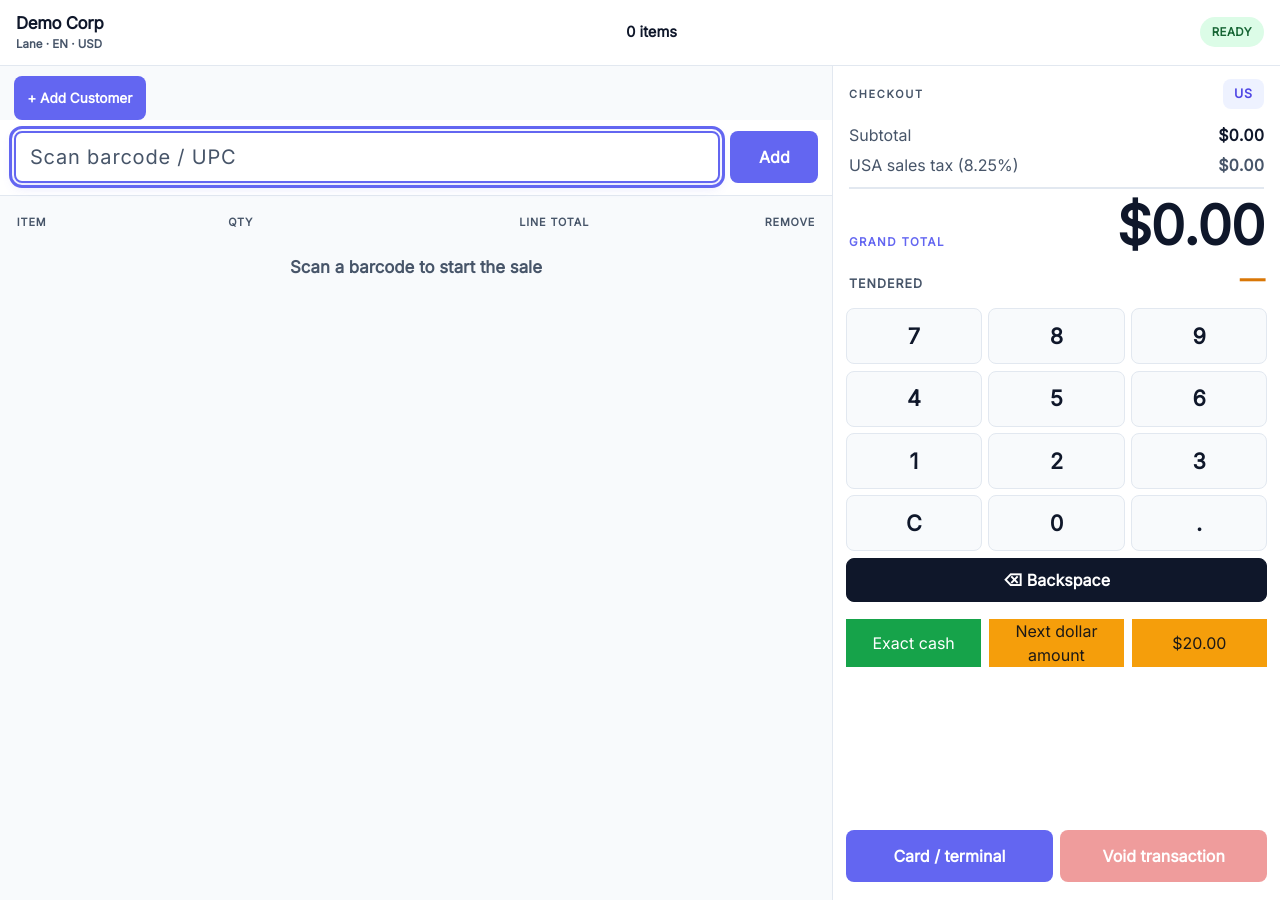
Test case: RegisterPage › logs a LINE_VOID when a cashier removes a line
The image size is (1280, 900).
Type "7501234567890" into the field with test id "pos-upc-search" at x=367, y=157, box [14,131,720,183]
Then press Enter
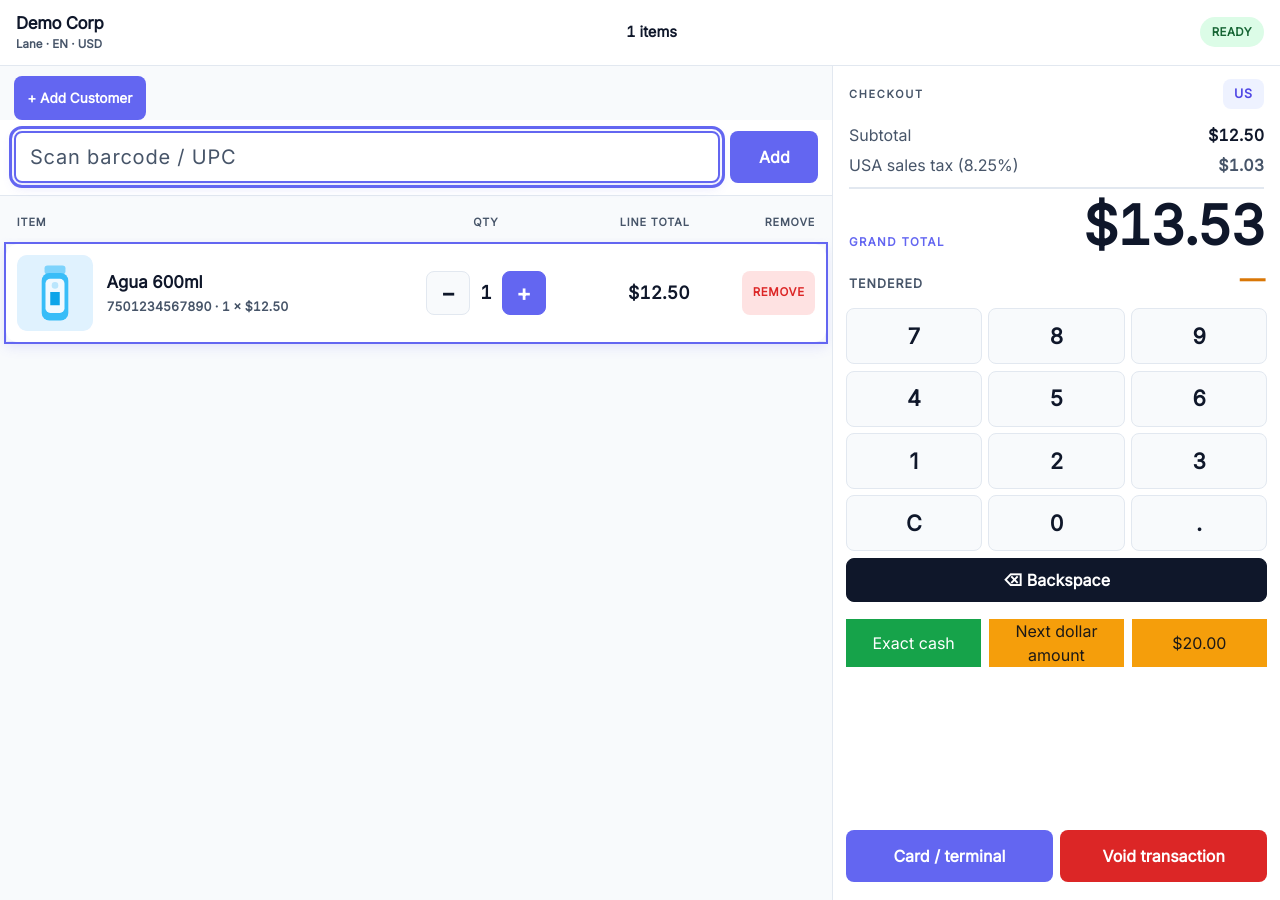
Now the row with test id "cart-row-7501234567890" is shown, box [6,244,826,342]
Click the button with test id "cart-remove-7501234567890" at x=779, y=293, box [742,271,815,315]
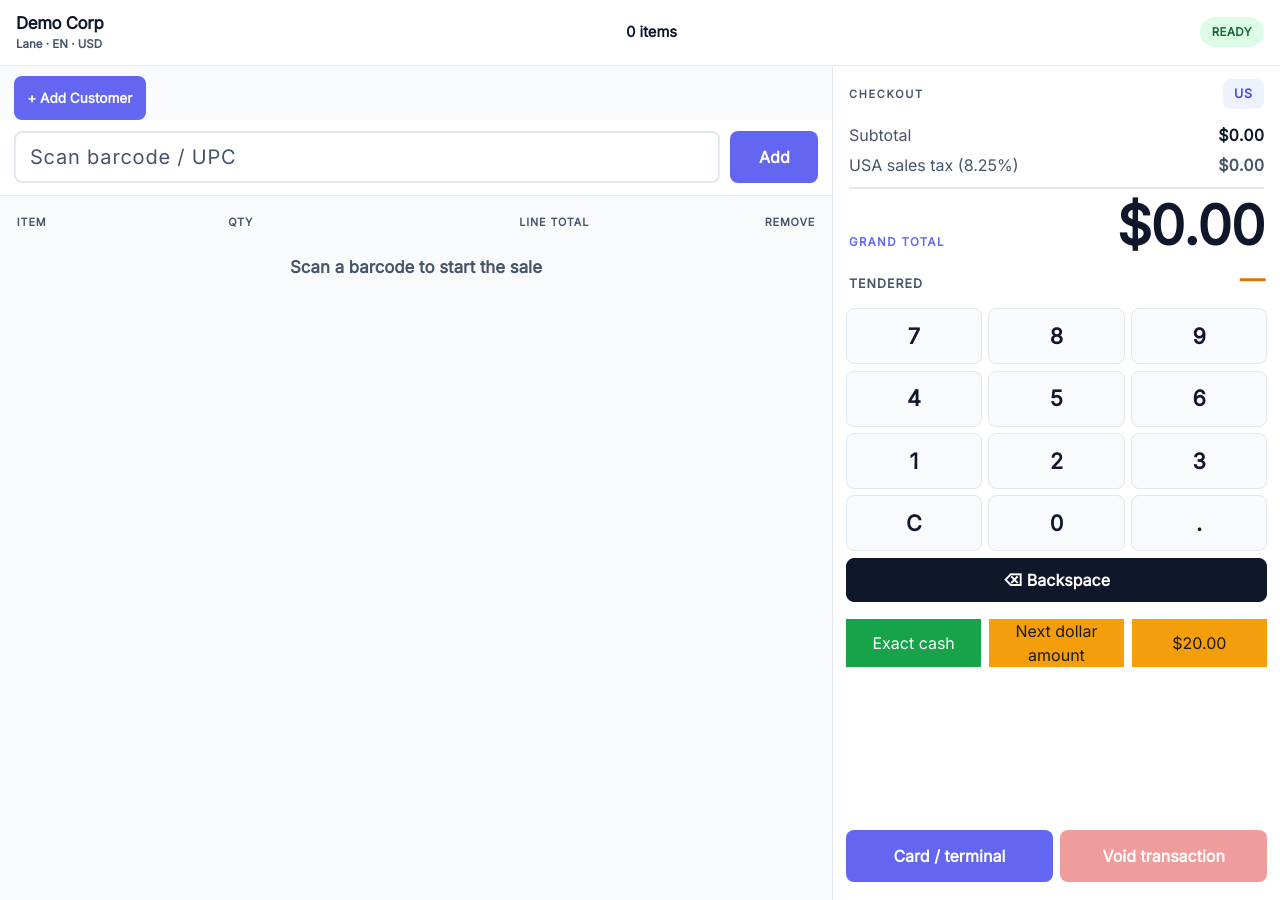
Now the row with test id "cart-row-7501234567890" is gone
